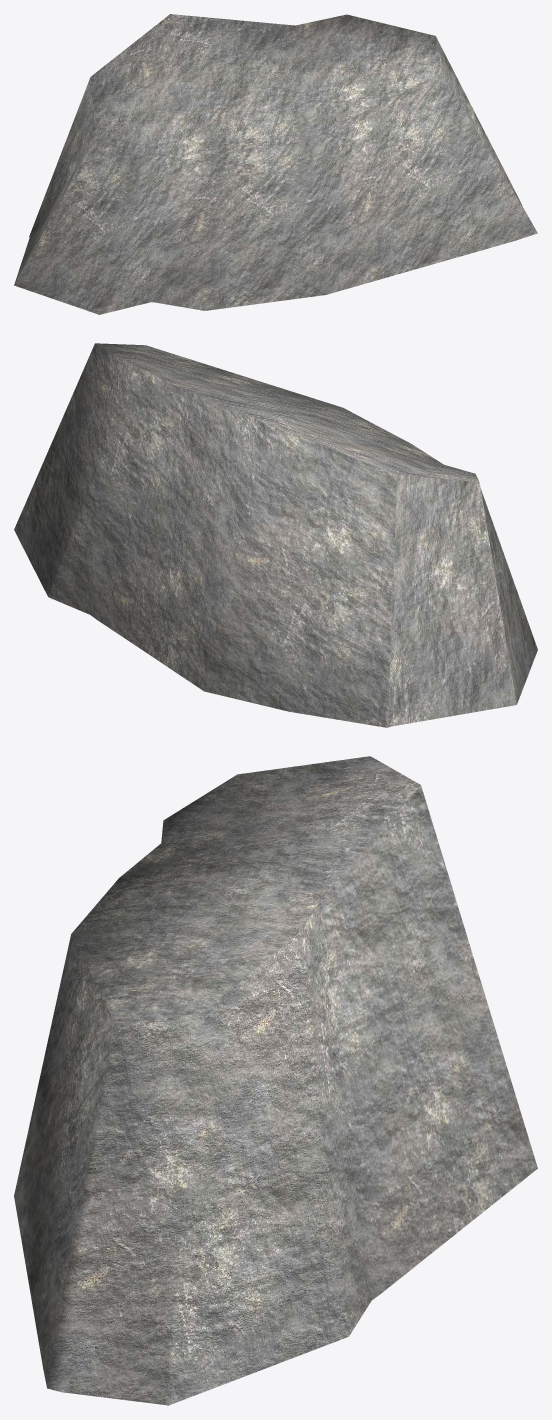
File: rock_2.dae
3 renders of one model, top to bottom at view 1: azimuth 30°, elevation 25°; view 2: azimuth 150°, elevation 25°; view 3: azimuth 270°, elevation 25°, orthographic. The views are drawn at different scales.
Parts seen in each view (by area): view 1: Group1; view 2: Group1; view 3: Group1.
Part boxes in pixels (left/top/right/bottom): Group1: left=14, top=14, right=537, bottom=314; Group1: left=14, top=343, right=537, bottom=727; Group1: left=14, top=756, right=537, bottom=1405.
Size of the model in its own units: 440 by 240 by 189.
1 material, 1 textured.
